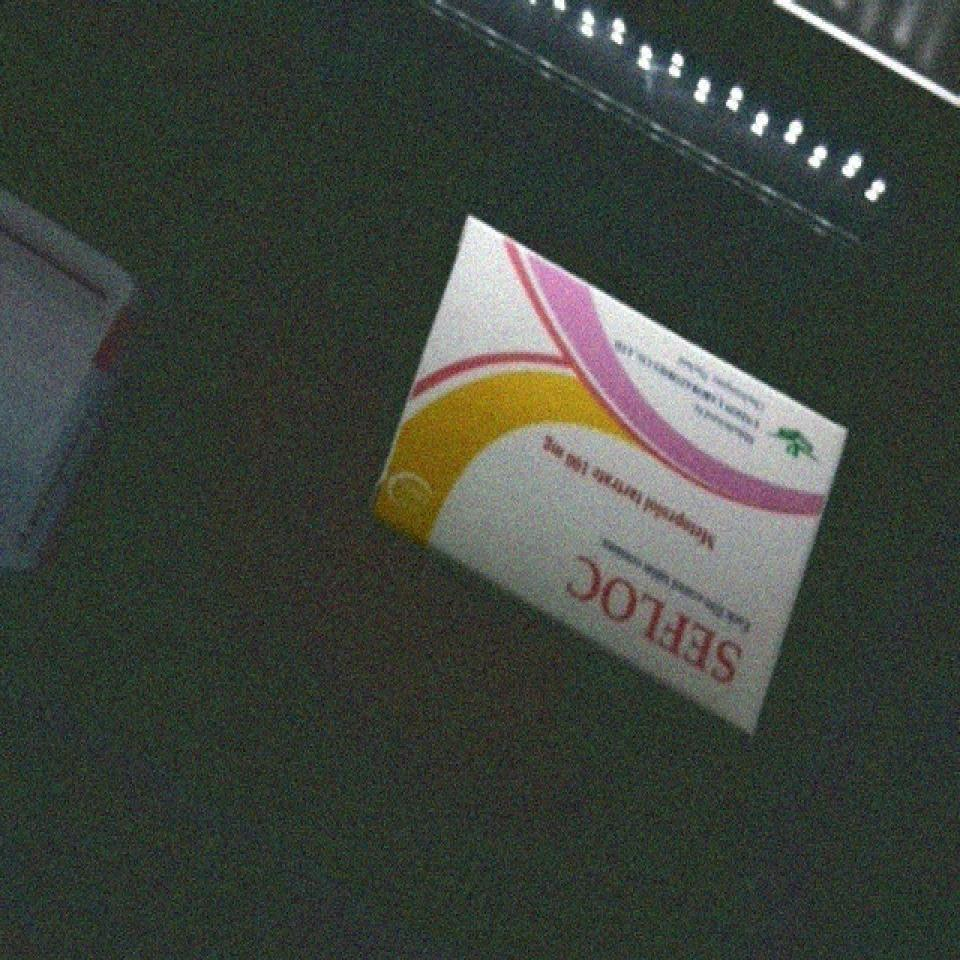sefloc: (319, 220, 904, 734)
